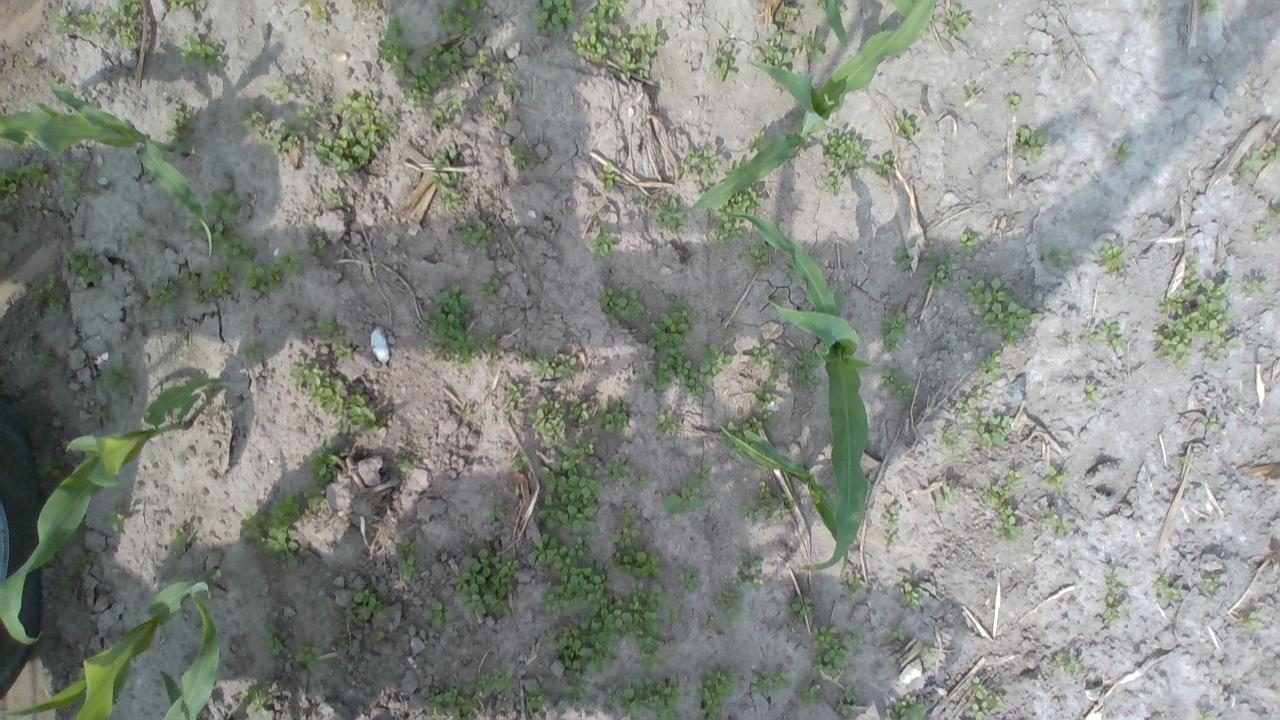Maize: (0, 374, 241, 646), (656, 0, 942, 220), (728, 211, 876, 571), (0, 78, 216, 258), (0, 568, 223, 720), (716, 415, 854, 580), (153, 582, 224, 720), (784, 0, 918, 46)
Weeds: (1152, 256, 1238, 371), (312, 88, 398, 182), (288, 356, 388, 436), (528, 531, 614, 618), (536, 433, 604, 536), (960, 274, 1040, 350), (552, 617, 622, 701), (447, 544, 521, 622), (418, 280, 481, 370), (187, 187, 256, 268), (600, 581, 664, 668), (241, 490, 300, 568), (402, 44, 470, 108), (612, 502, 666, 579), (565, 0, 624, 65), (816, 126, 869, 197), (604, 675, 682, 720), (610, 21, 664, 82), (758, 0, 802, 74), (240, 249, 304, 299), (646, 298, 698, 358), (425, 146, 467, 212), (376, 12, 414, 83), (737, 480, 798, 523), (694, 667, 738, 720), (811, 623, 849, 683), (713, 180, 763, 224), (102, 0, 144, 51), (436, 0, 491, 38), (1235, 138, 1280, 184), (187, 266, 238, 306), (962, 676, 1008, 720), (526, 398, 567, 447), (23, 272, 68, 316), (178, 31, 225, 72), (675, 144, 723, 184), (57, 159, 101, 202), (424, 685, 478, 720), (1100, 567, 1132, 626), (969, 408, 1013, 448), (58, 552, 98, 596), (344, 587, 386, 628), (64, 245, 106, 285), (721, 417, 761, 459), (531, 0, 579, 35), (52, 7, 102, 40), (307, 437, 340, 486), (662, 476, 705, 513), (600, 286, 644, 322), (706, 38, 740, 84), (164, 108, 196, 156), (1012, 124, 1050, 164), (698, 344, 732, 388), (639, 356, 674, 398), (467, 667, 512, 699), (794, 342, 822, 392), (921, 250, 956, 290), (394, 536, 424, 582), (237, 683, 274, 720), (594, 398, 630, 435), (984, 470, 1021, 506), (452, 218, 496, 248), (676, 356, 706, 400), (531, 352, 577, 380), (749, 386, 778, 430), (879, 368, 916, 402), (731, 552, 764, 590), (240, 104, 272, 143), (881, 312, 910, 355), (737, 236, 771, 272), (711, 588, 744, 624), (1046, 647, 1084, 678), (884, 694, 929, 720), (268, 120, 300, 156), (994, 505, 1022, 546), (1034, 507, 1072, 537), (1083, 319, 1122, 347), (100, 364, 134, 396), (292, 634, 324, 668), (146, 278, 182, 308), (656, 195, 685, 232), (422, 600, 454, 632), (1154, 572, 1184, 606), (763, 354, 790, 391), (749, 670, 792, 693), (940, 422, 965, 461), (1096, 240, 1123, 276), (954, 388, 984, 420), (262, 622, 292, 654), (834, 684, 860, 720), (798, 32, 826, 64), (943, 5, 971, 37), (589, 226, 617, 258), (711, 220, 744, 247), (300, 0, 334, 26), (787, 594, 814, 626), (16, 162, 52, 186), (168, 526, 195, 558), (481, 328, 502, 369), (314, 312, 344, 340), (892, 237, 918, 269), (482, 94, 507, 127), (300, 486, 324, 520), (892, 112, 922, 139), (899, 580, 924, 612), (596, 163, 625, 190), (523, 684, 549, 714), (508, 146, 540, 170), (502, 382, 522, 420), (934, 481, 958, 512), (36, 457, 67, 481), (795, 682, 821, 710), (604, 454, 630, 481), (1041, 244, 1068, 270), (954, 231, 980, 258), (1042, 465, 1068, 491), (100, 508, 128, 532), (980, 349, 1001, 380), (870, 152, 896, 177), (842, 568, 866, 595), (266, 78, 290, 105), (674, 568, 701, 592), (1240, 276, 1272, 296), (392, 449, 418, 473), (568, 395, 590, 422), (487, 496, 508, 524), (654, 412, 677, 437), (1110, 142, 1136, 164), (296, 104, 318, 129), (126, 225, 148, 250), (1236, 611, 1262, 632), (429, 104, 450, 129), (0, 166, 18, 194), (748, 130, 769, 154), (478, 275, 500, 297), (180, 268, 202, 290), (241, 340, 265, 360), (764, 290, 788, 310), (471, 48, 489, 74), (349, 0, 382, 14), (882, 503, 899, 530), (888, 619, 907, 643), (34, 348, 58, 367), (322, 188, 342, 210), (1196, 0, 1220, 18), (1082, 382, 1102, 403), (1002, 92, 1022, 112), (694, 464, 713, 485), (88, 405, 109, 424), (1002, 51, 1026, 67), (748, 346, 768, 365), (306, 234, 326, 253), (633, 473, 655, 490), (23, 200, 42, 219), (491, 60, 508, 81), (332, 342, 354, 358), (662, 605, 679, 625), (502, 78, 522, 95), (722, 160, 740, 178), (167, 0, 195, 11), (921, 646, 938, 664), (1202, 576, 1220, 593), (509, 455, 528, 471), (884, 532, 900, 550), (514, 348, 532, 364), (834, 0, 850, 17), (1202, 416, 1219, 432), (202, 384, 216, 403), (1194, 708, 1216, 720), (850, 630, 865, 647), (1254, 220, 1268, 238), (458, 405, 472, 423), (450, 97, 464, 114), (337, 632, 351, 649), (539, 630, 555, 644), (1058, 331, 1074, 345), (964, 84, 976, 102), (1144, 4, 1159, 18), (814, 0, 830, 13), (787, 115, 803, 128), (1267, 205, 1280, 221), (22, 332, 36, 346), (705, 615, 719, 628), (19, 58, 34, 70), (1176, 455, 1190, 466), (375, 628, 386, 642), (699, 185, 712, 195), (0, 220, 9, 234), (590, 210, 600, 222), (300, 713, 308, 720)
